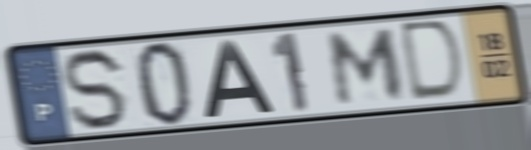0: (133, 39, 195, 129)
1: (269, 29, 314, 117)
A: (201, 38, 278, 122)
D: (399, 17, 468, 104)
M: (326, 26, 408, 108)
S: (60, 46, 133, 134)
